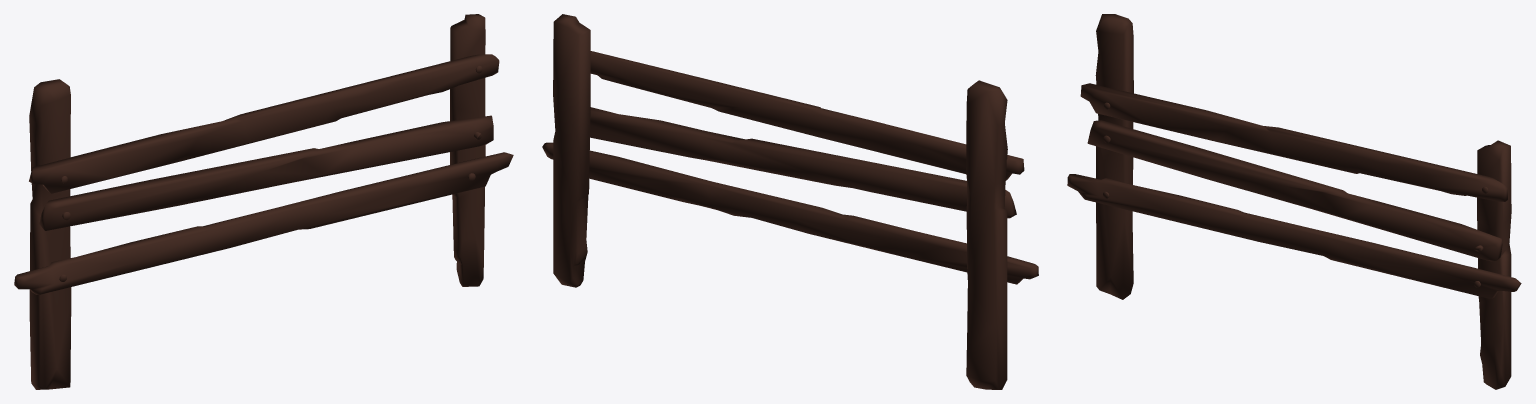
File: SM_Fence_02.fbx
3 views of the same model, side by side, from view 1: azimuth 30°, elevation 25°; view 2: azimuth 150°, elevation 25°; view 3: azimuth 330°, elevation 25° (orthographic). The views are drawn at different scales.
Visible parts, largest first — view 1: SM_Fence_02_LOD0; view 2: SM_Fence_02_LOD0; view 3: SM_Fence_02_LOD0.
Part boxes in pixels (bbox=[...]): SM_Fence_02_LOD0: bbox=[14, 14, 513, 389]; SM_Fence_02_LOD0: bbox=[542, 14, 1038, 389]; SM_Fence_02_LOD0: bbox=[1067, 14, 1521, 389].
Size of what is drawn, in the model's own units: 244 by 142 by 18.15.
